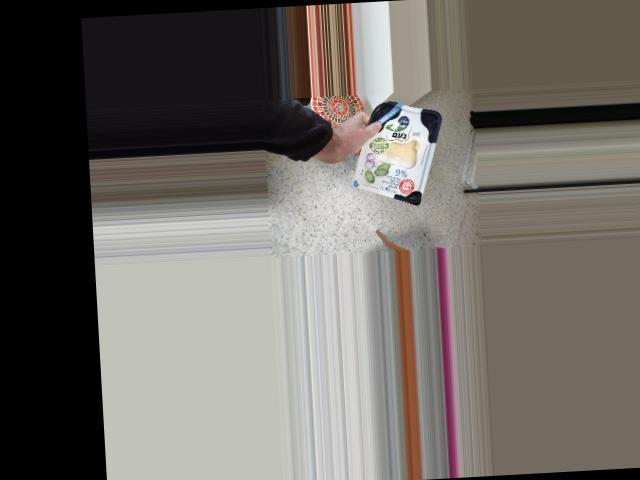cheese: (350, 97, 447, 209)
